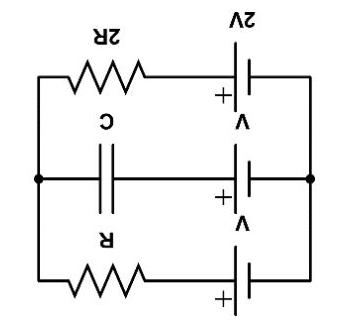Capacitor: (85, 131, 129, 222)
